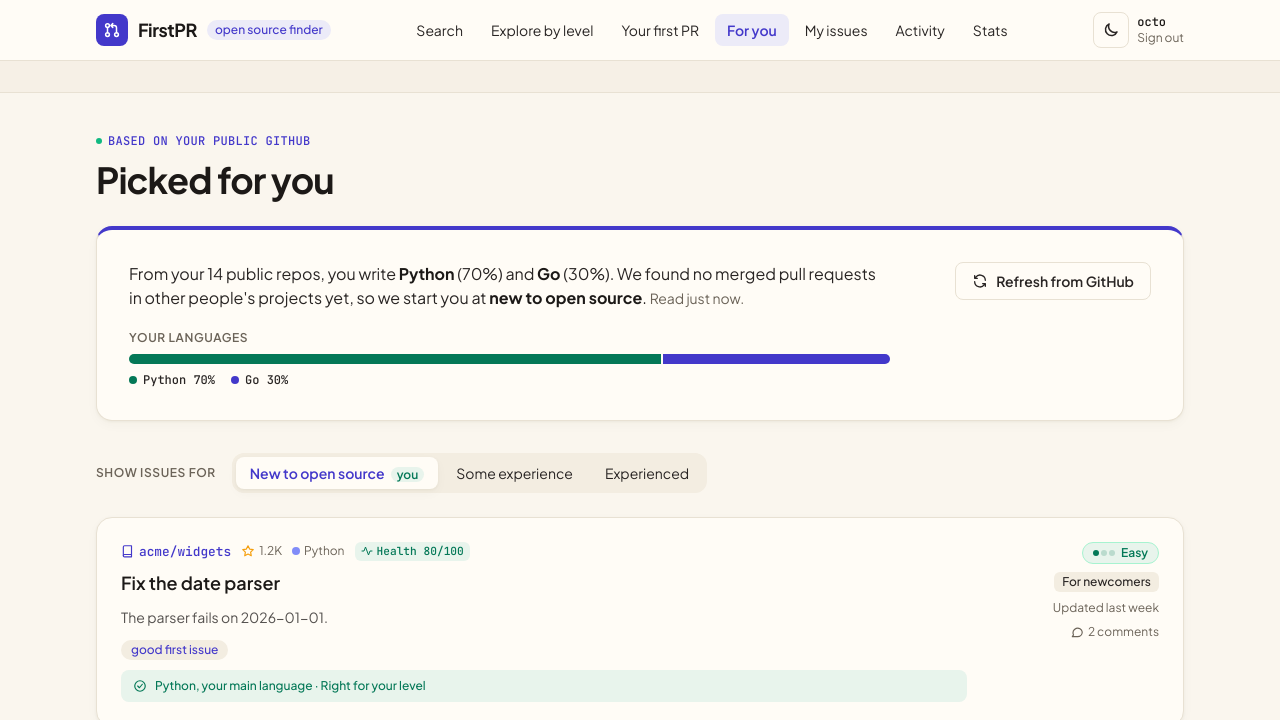
Test: switching level re-ranks and keeps the choice in the URL
Click the radio button labelled "Experienced" at (647, 473), box [605, 464, 689, 482]
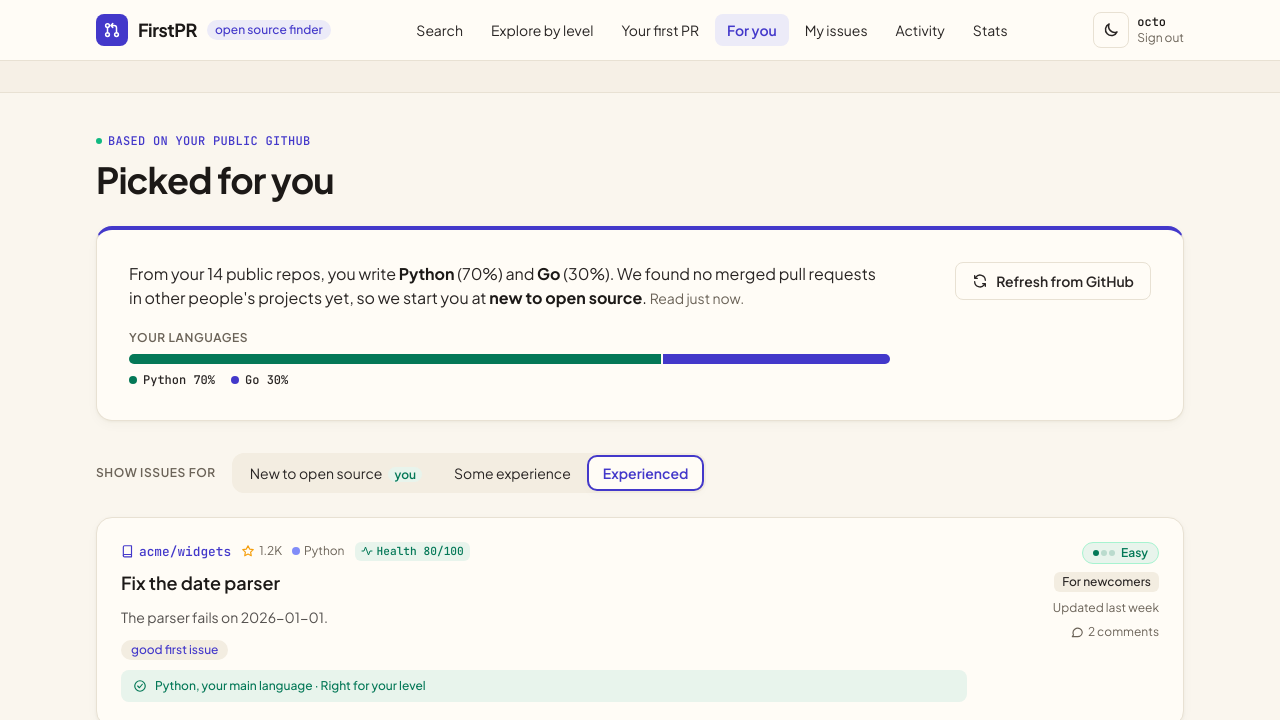
Check: the radio button labelled "Experienced" is checked, box [589, 457, 702, 489]
